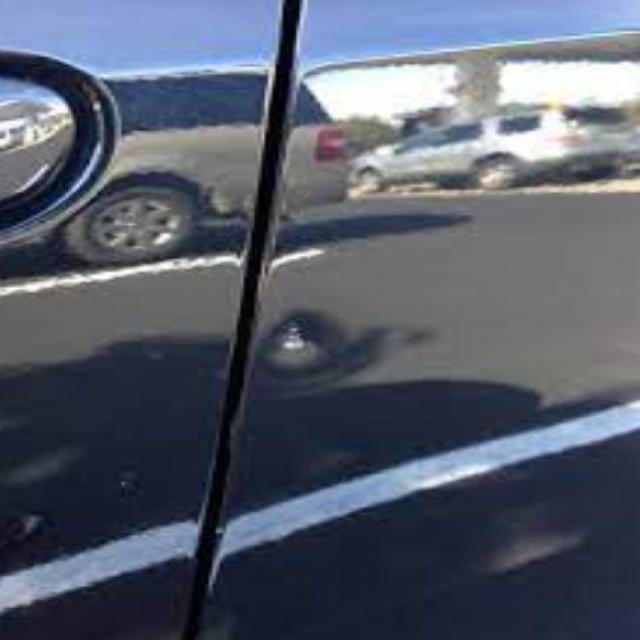dents: (252, 292, 348, 377)
